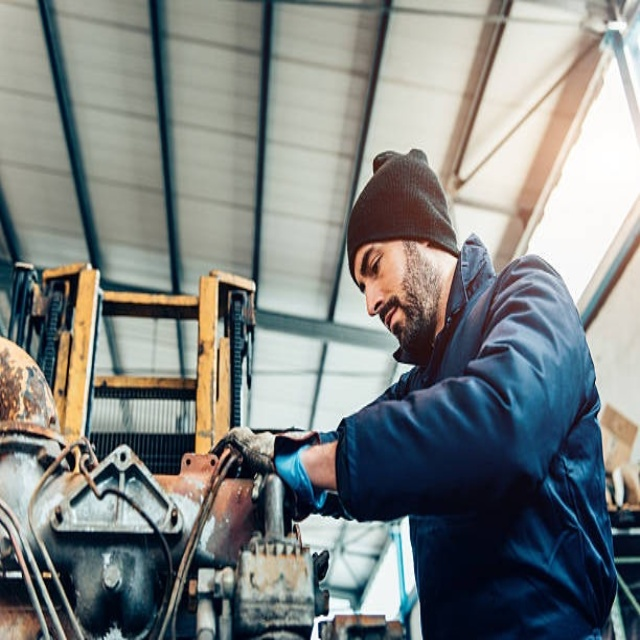Guantes: (208, 416, 332, 515)
Sin_gafas: (355, 240, 385, 298)
Sin_mascara: (371, 304, 412, 347)
